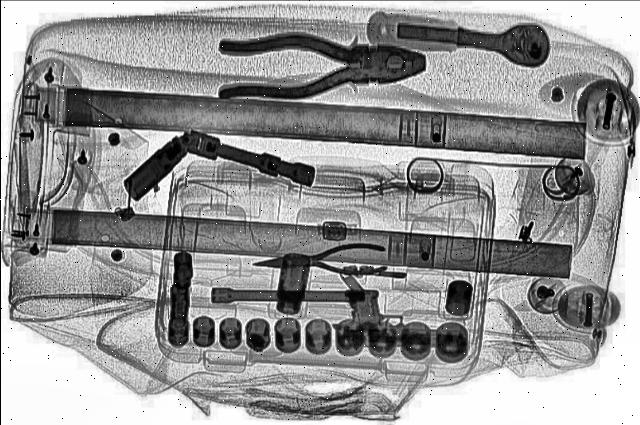Gun: (331, 288, 465, 348)
Pliers: (212, 32, 426, 98), (246, 242, 386, 279)
